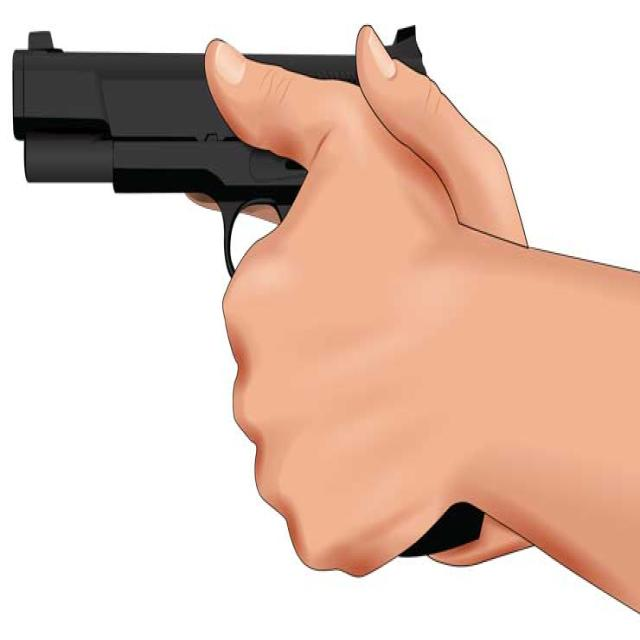HandGun: (13, 25, 430, 277)
